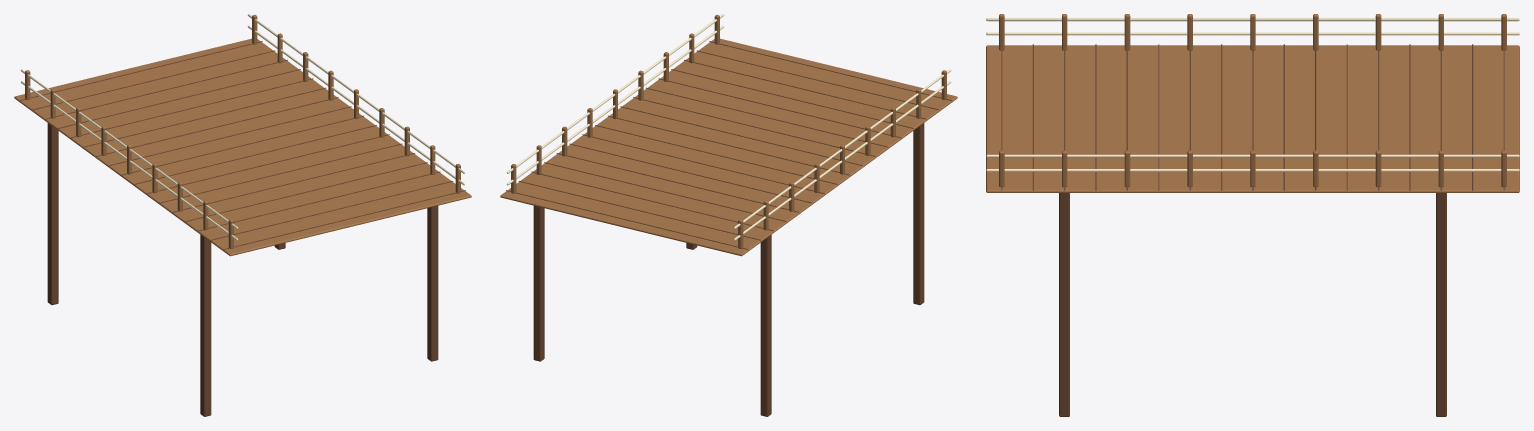
Rendered from race_bridge.glb.
3 views of the same model, side by side, from view 1: azimuth 30°, elevation 25°; view 2: azimuth 150°, elevation 25°; view 3: azimuth 270°, elevation 25° (orthographic). The views are drawn at different scales.
Visible parts, largest first — view 1: race_bridge; view 2: race_bridge; view 3: race_bridge.
Part boxes in pixels (x1,y1,x2,y2): race_bridge: [14, 14, 471, 416]; race_bridge: [500, 14, 957, 416]; race_bridge: [986, 14, 1519, 416].
Bounding box in the file's own units: 22 × 18.55 × 34.
